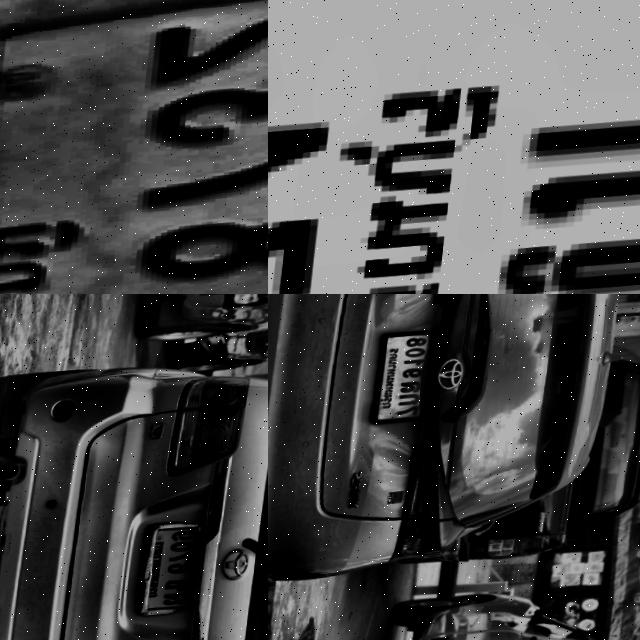license-plate: (268, 0, 640, 294), (0, 0, 268, 294), (375, 328, 448, 432), (146, 523, 210, 623)
